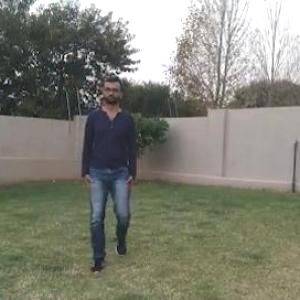follow: (85, 74, 131, 259)
